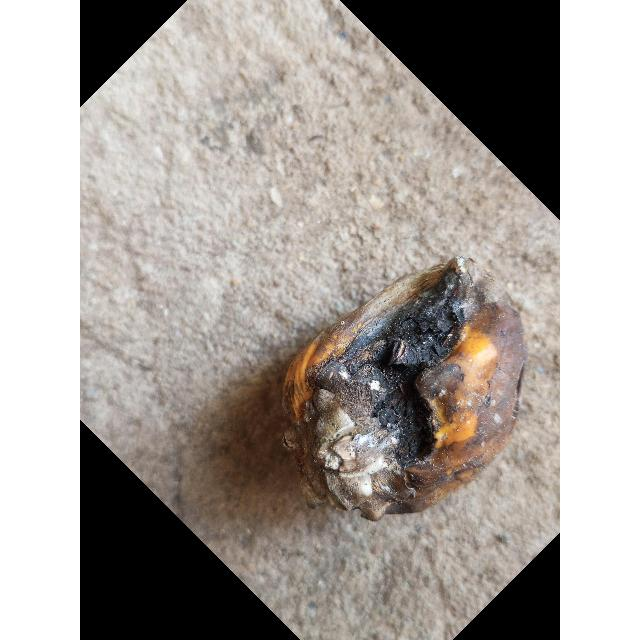damaged: (274, 257, 528, 523)
